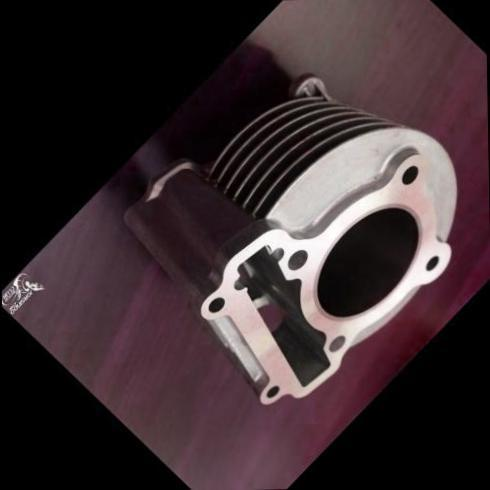hole: (278, 240, 314, 276), (390, 156, 424, 190), (320, 328, 348, 354), (416, 249, 442, 275)
